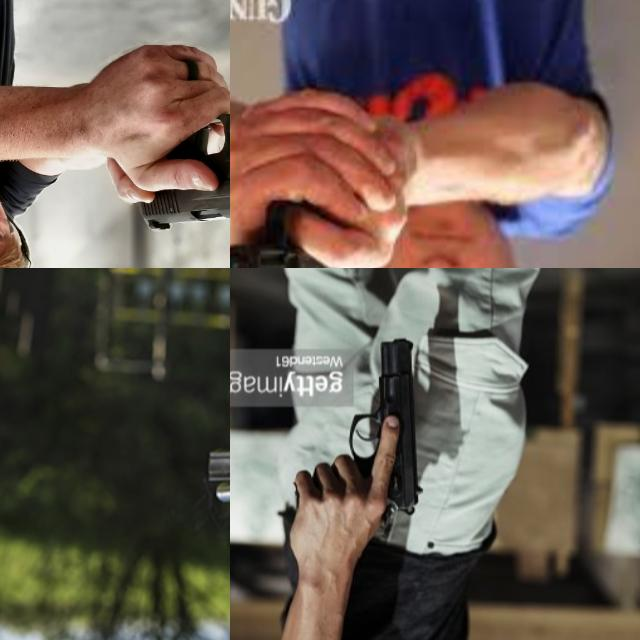handgun: (288, 332, 424, 530), (128, 101, 230, 233), (230, 178, 360, 268)
